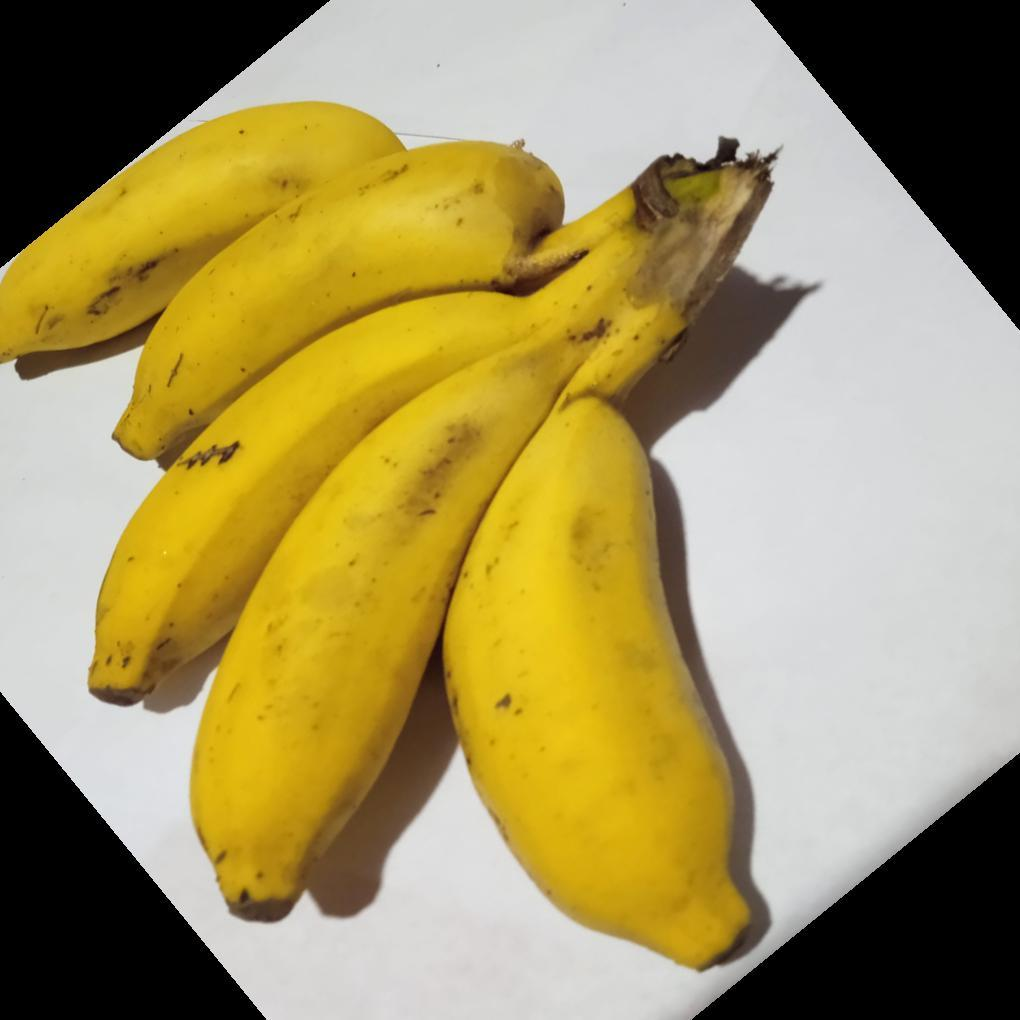Banana Ripe: (6, 93, 787, 999), (115, 127, 575, 927), (442, 204, 839, 1020)
